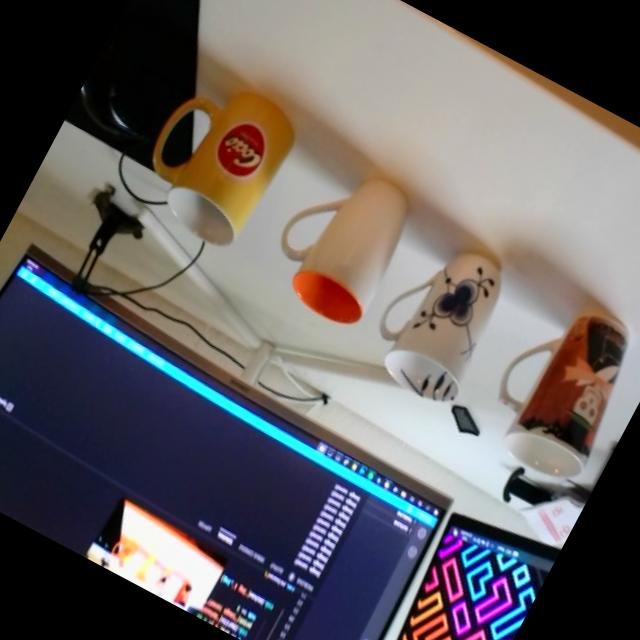Cocio Cup: (122, 58, 306, 256)
Halloween cup: (466, 282, 640, 492)
Hand painted cup: (356, 223, 525, 414)
White Cup: (252, 146, 425, 335)
